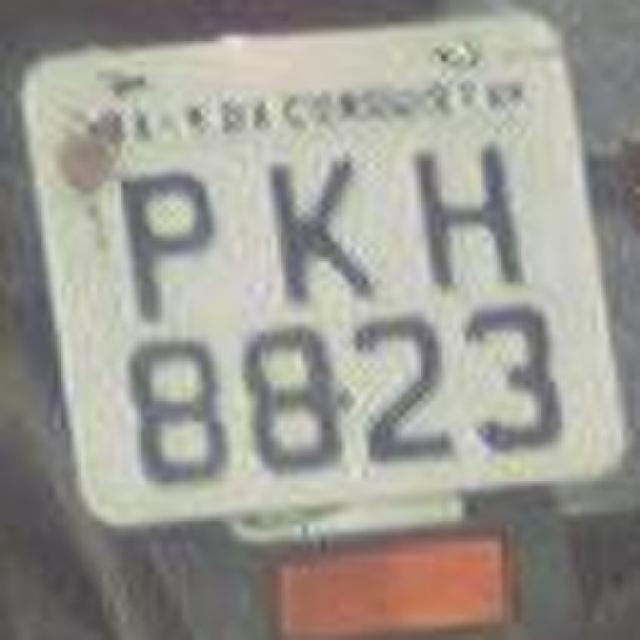2: (324, 305, 464, 480)
3: (432, 292, 580, 480)
8: (220, 304, 360, 491), (105, 308, 240, 492)
H: (412, 132, 528, 308)
K: (260, 140, 388, 320)
P: (116, 144, 232, 324)
